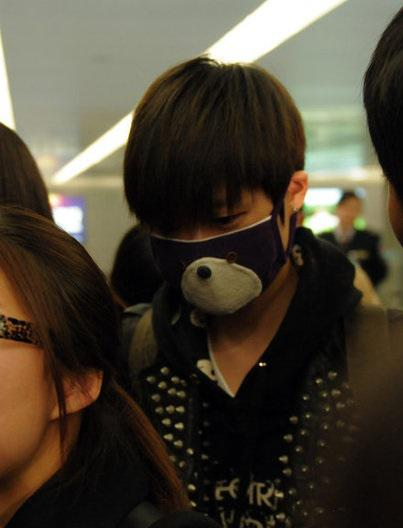OK: (141, 178, 279, 316)
